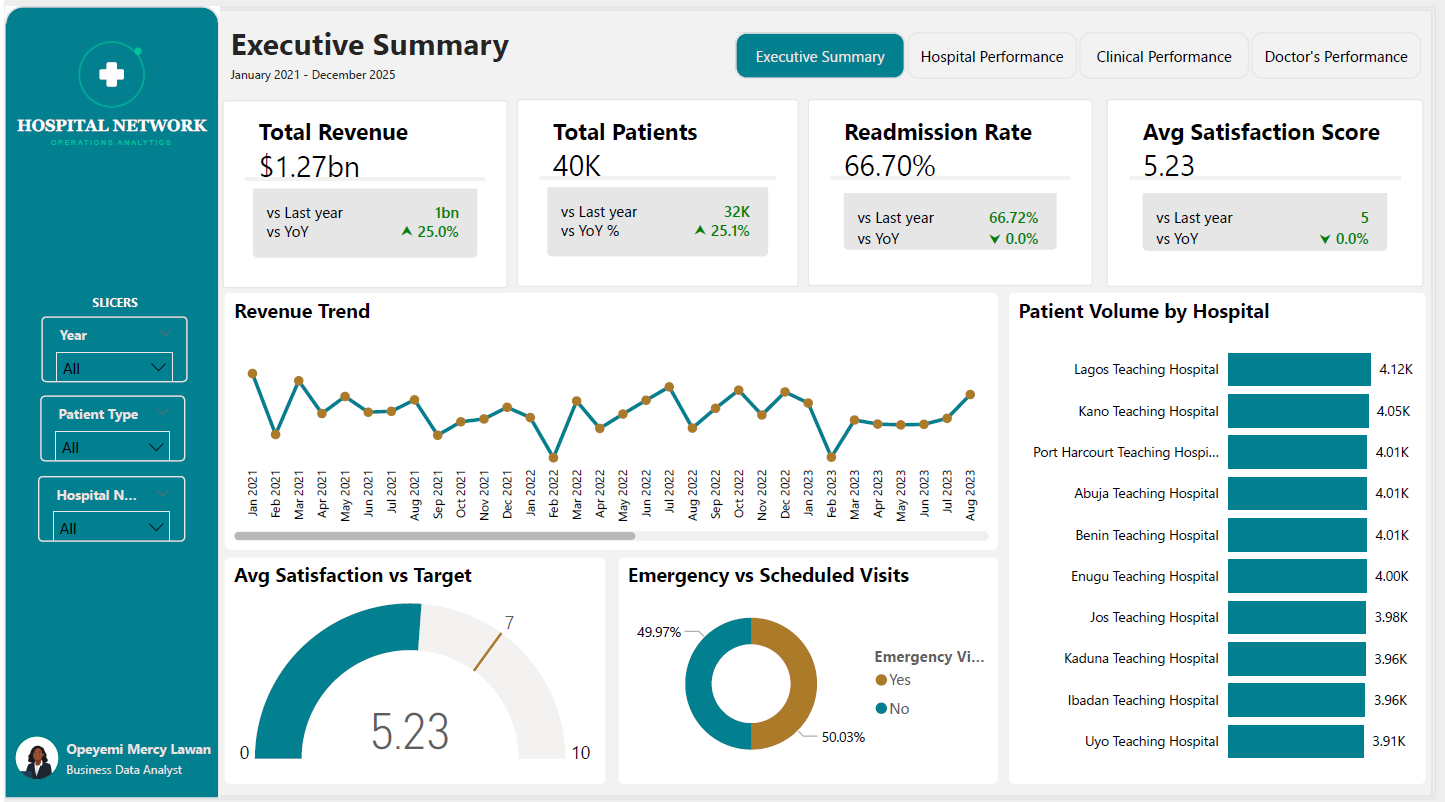

The page's visual inventory and layout, read from the dashboard file:
{"tool":"powerbi","page":{"name":"Executive Summary","canvas":[1280,720],"ordinal":0},"visuals":[{"type":"group","id":"g1","title":"Group 1","box":[1,9,1264,711.2],"z":0},{"type":"shape","box":[1,9,1264,701],"z":0,"group":"g1"},{"type":"image","box":[8,642,42,61],"z":0},{"type":"shape","box":[1.9,9.9,187.7,710.3],"z":1000,"group":"g1"},{"type":"lineChart","title":"Revenue Trend","fields":{"Y":["Core KPIs.Total Revenue"],"Category":["DimDate.YearMonth"]},"box":[195,262,683,227],"z":1000},{"type":"textbox","box":[50,651,159,52],"z":1000},{"type":"gauge","title":"Avg Satisfaction vs Target","fields":{"Y":["Core KPIs.Average Satisfaction Score"],"MinValue":["Core KPIs.Min Satisfaction"],"TargetValue":["Core KPIs.Target Satisfaction"],"MaxValue":["Core KPIs.Max Satisfaction"]},"box":[195.1,495.7,336.1,207.5],"z":2000},{"type":"donutChart","title":"Emergency vs Scheduled Visits","fields":{"Category":["factpatientvisits.emergencyvisit"],"Y":["Core KPIs.Total Patients"]},"box":[542.7,495.7,335.2,207.5],"z":3000},{"type":"clusteredBarChart","title":"Patient Volume by Hospital","fields":{"Category":["dimhospital.hospitalname"],"Y":["Core KPIs.Total Patients"]},"box":[888,262,368,441],"z":4000},{"type":"slicer","fields":{"Values":["DimDate.Year"]},"box":[851,19,130,58],"z":5000},{"type":"slicer","fields":{"Values":["dimpatienttype.patienttype"]},"box":[989,18,130,58],"z":6000},{"type":"slicer","fields":{"Values":["dimhospital.hospitalname"]},"box":[1126,19,130,58],"z":7000},{"type":"pageNavigator","box":[20,273,151,196],"z":8000},{"type":"image","box":[8,20,174,143],"z":9000},{"type":"cardVisual","fields":{"Data":["Core KPIs.Total Patients"]},"box":[453,91,249,166],"z":10000},{"type":"cardVisual","fields":{"Data":["Core KPIs.Average Satisfaction Score"]},"box":[974,91,280,166],"z":11000},{"type":"cardVisual","fields":{"Data":["Core KPIs.Readmission Rate"]},"box":[710,91,252,165],"z":12000},{"type":"cardVisual","fields":{"Data":["Core KPIs.Total Revenue"]},"box":[193,92,252,166],"z":13000},{"type":"textbox","box":[195,18,375,68],"z":13001,"group":"g1"}]}

Visuals, with their boxes in screenshot pixels (x1, y1, x2, y2), scaled from the page's 1280x720 canvas onto the 1445x802 screenshot:
"Group 1" group: <box>1,10,1428,801</box>
shape: <box>1,10,1428,791</box>
image: <box>9,715,56,783</box>
shape: <box>2,11,214,801</box>
"Revenue Trend" lineChart: <box>220,292,991,545</box>
textbox: <box>56,725,236,783</box>
"Avg Satisfaction vs Target" gauge: <box>220,552,600,783</box>
"Emergency vs Scheduled Visits" donutChart: <box>613,552,991,783</box>
"Patient Volume by Hospital" clusteredBarChart: <box>1002,292,1418,783</box>
slicer - DimDate.Year: <box>961,21,1107,86</box>
slicer - dimpatienttype.patienttype: <box>1116,20,1263,85</box>
slicer - dimhospital.hospitalname: <box>1271,21,1418,86</box>
pageNavigator: <box>23,304,193,522</box>
image: <box>9,22,205,182</box>
cardVisual - Core KPIs.Total Patients: <box>511,101,792,286</box>
cardVisual - Core KPIs.Average Satisfaction Score: <box>1100,101,1416,286</box>
cardVisual - Core KPIs.Readmission Rate: <box>802,101,1086,285</box>
cardVisual - Core KPIs.Total Revenue: <box>218,102,502,287</box>
textbox: <box>220,20,643,96</box>
